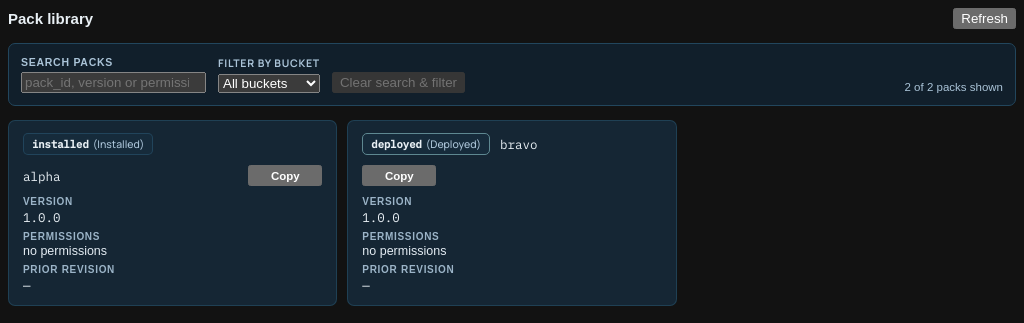
Test: PackLibrary refresh keeps the selected bucket filter truthful › keeps the selected bucket as an explicit option and filters truthfully when Refresh drops it from inventory
Expected: the list with test id "pack-library-list" is shown, [8,120,677,306]
Select "installed" in the dropdown with test id "pack-library-bucket-select": (269,84) [218,74,320,93]
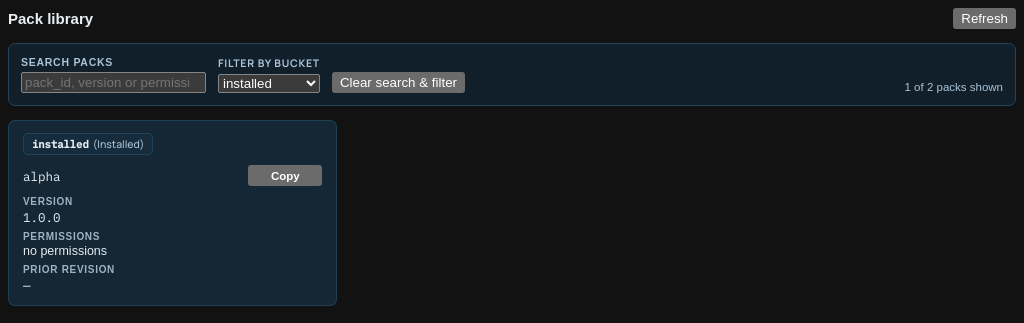
Result: the text with test id "pack-library-count" reads "1 of 2 packs shown" at [904,81,1003,93]
Click the button with test id "pack-library-refresh": (985,18) [953,8,1016,29]
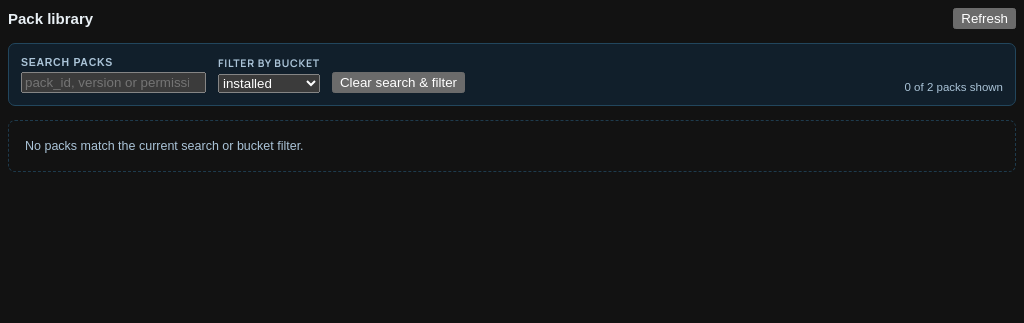
Result: the message "No packs match the current search or bucket filter." is shown at [8,120,1016,172]
Result: the text with test id "pack-library-count" reads "0 of 2 packs shown" at [904,81,1003,93]
Result: the list with test id "pack-library-list" is gone
